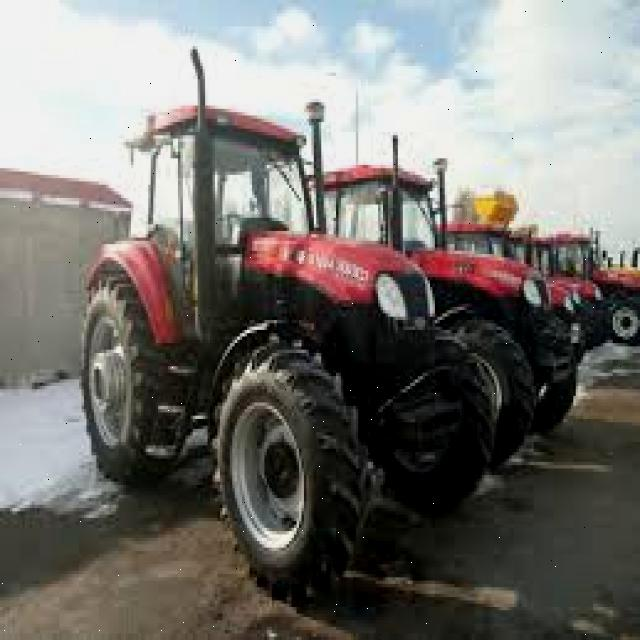Tratores - v5 YOLO V8L 2024-11-13: (83, 102, 498, 608), (310, 168, 576, 468), (435, 224, 577, 366), (554, 230, 638, 344)
